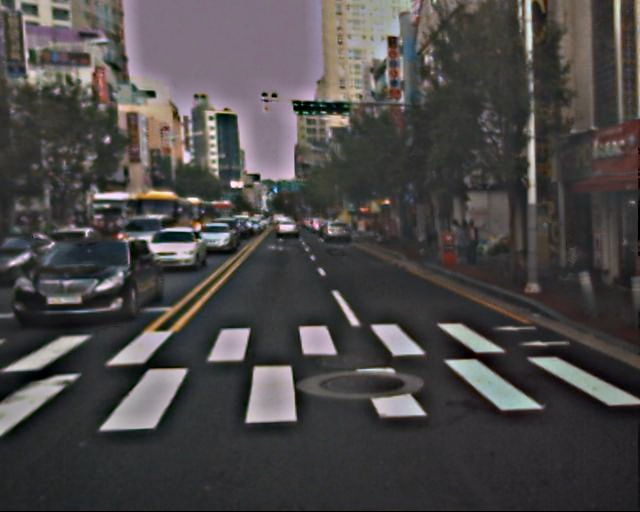person: (463, 222, 483, 270), (561, 244, 589, 277), (451, 222, 469, 265), (422, 218, 436, 251), (411, 216, 422, 242)
